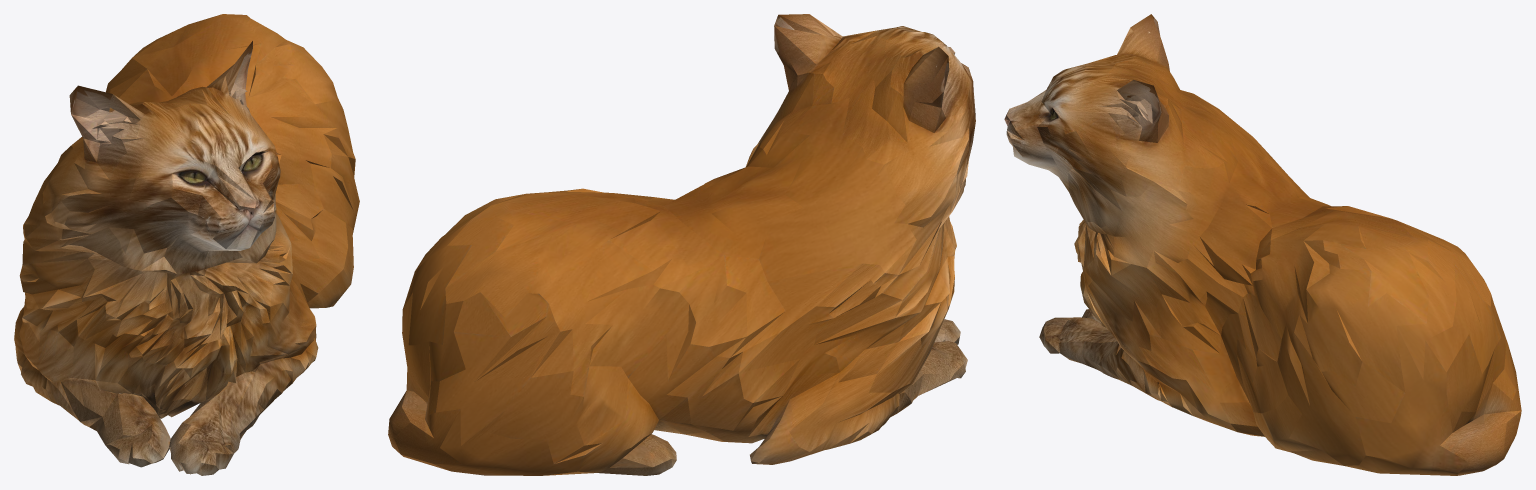
The model's file is momo.glb.
3 renders of one model, left to right at view 1: azimuth 30°, elevation 25°; view 2: azimuth 150°, elevation 25°; view 3: azimuth 270°, elevation 25°, orthographic. The views are drawn at different scales.
Parts seen in each view (by area): view 1: output_unwrapped; view 2: output_unwrapped; view 3: output_unwrapped.
Boxes of the visible parts, x1,y1,x2,y2 form: output_unwrapped: (14, 14, 359, 475); output_unwrapped: (388, 14, 975, 475); output_unwrapped: (1004, 14, 1521, 475).
Size of the model in its own units: 0.4127 by 0.3388 by 0.5175.
Materials: 1 (1 with a texture image).
